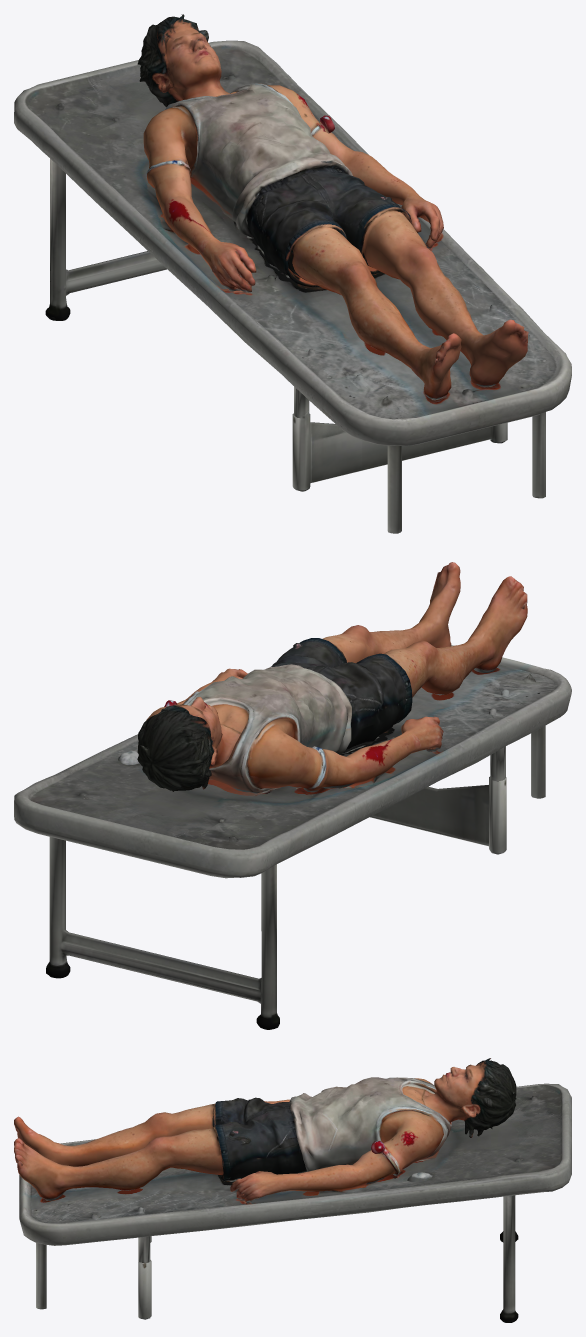
Rendered from tripo_convert_d6df05f6-0c08-495b-aeed-72a0dd3878f4.fbx.
The picture shows the model from 3 angles, top to bottom: view 1: azimuth 30°, elevation 25°; view 2: azimuth 150°, elevation 25°; view 3: azimuth 270°, elevation 25°; orthographic projection. The views are drawn at different scales.
Parts seen in each view (by area): view 1: tripo_node_d6df05f6; view 2: tripo_node_d6df05f6; view 3: tripo_node_d6df05f6.
Part boxes in pixels (x1,y1,x2,y2): tripo_node_d6df05f6: [14, 14, 571, 533]; tripo_node_d6df05f6: [14, 562, 571, 1029]; tripo_node_d6df05f6: [14, 1058, 571, 1322].
Bounding box in the file's own units: 0.3886 × 0.423 × 0.9782.
1 material, 1 textured.
